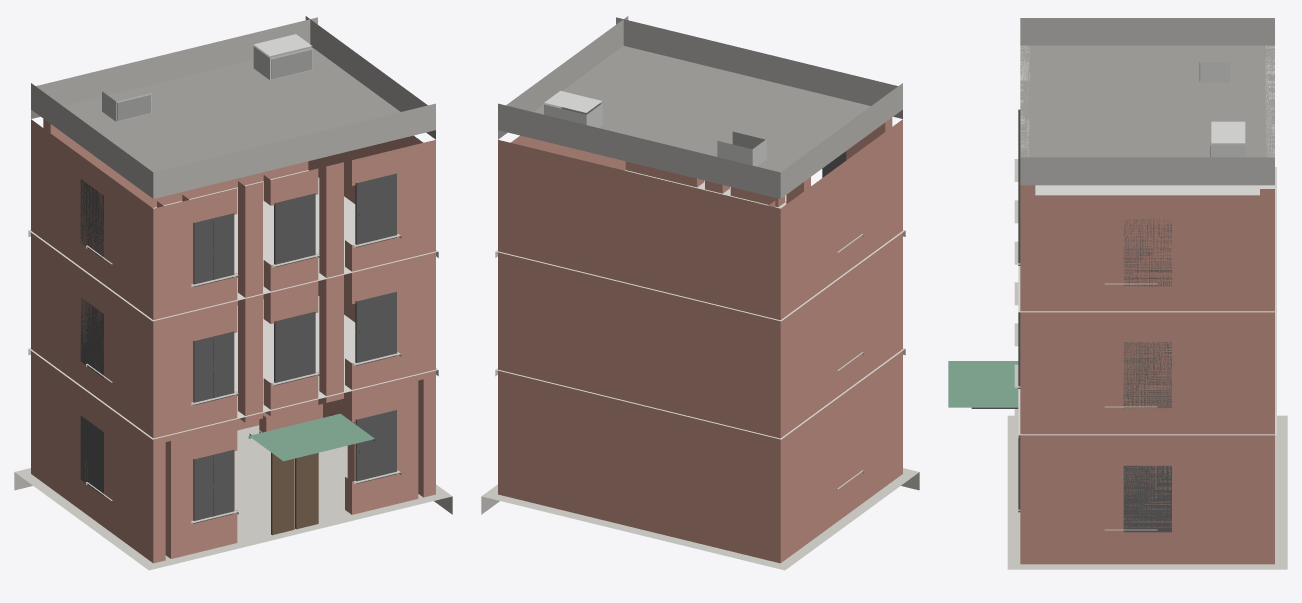
The model's file is building.glb.
3 renders of one model, left to right at view 1: azimuth 30°, elevation 25°; view 2: azimuth 150°, elevation 25°; view 3: azimuth 270°, elevation 25°, orthographic. The views are drawn at different scales.
Bounding box in the file's own units: 8.6 × 11.08 × 8.
